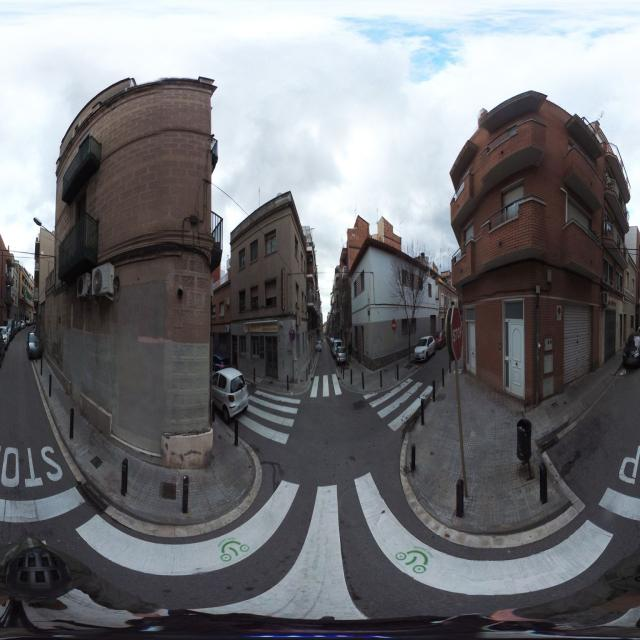forb_stopping: (290, 330, 296, 343)
